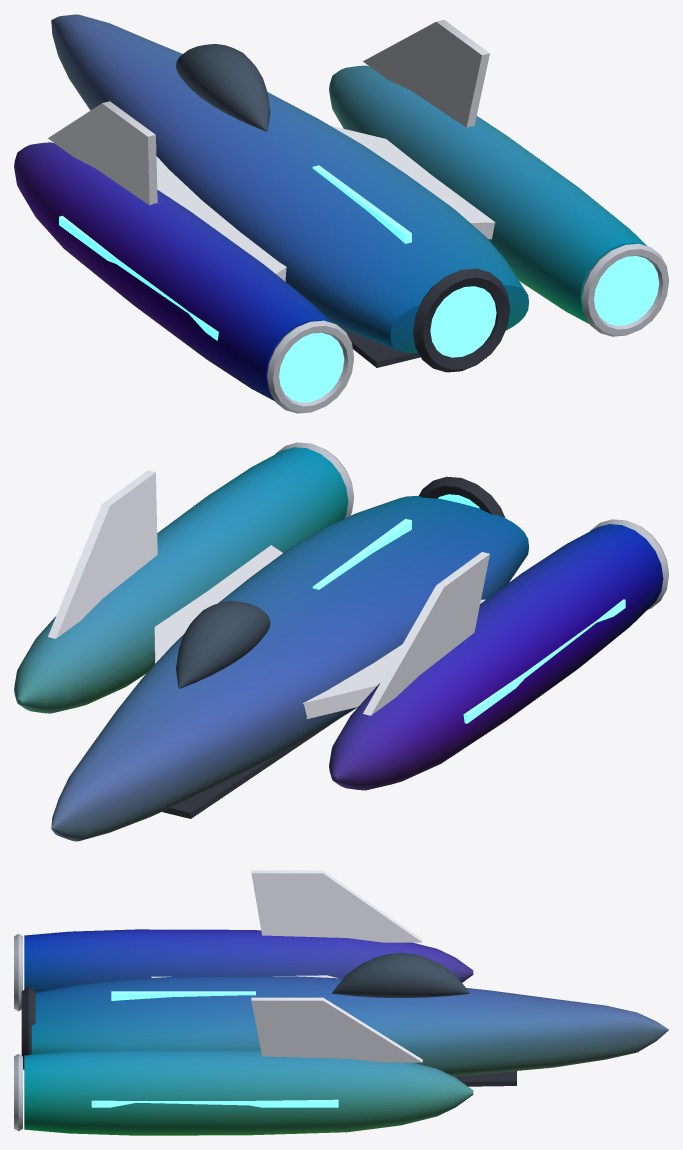
Rendered from comet.glb.
3 views of the same model, one above another, from view 1: azimuth 30°, elevation 25°; view 2: azimuth 150°, elevation 25°; view 3: azimuth 270°, elevation 25° (orthographic). The views are drawn at different scales.
Visible parts, largest first — view 1: comet_LOD0; view 2: comet_LOD0; view 3: comet_LOD0.
Boxes of the visible parts, x1,y1,x2,y2 form: comet_LOD0: (14,14,668,413); comet_LOD0: (14,442,668,841); comet_LOD0: (14,870,668,1135).
Size of what is drawn, in the model's own units: 2.56 by 1.04 by 4.52.
